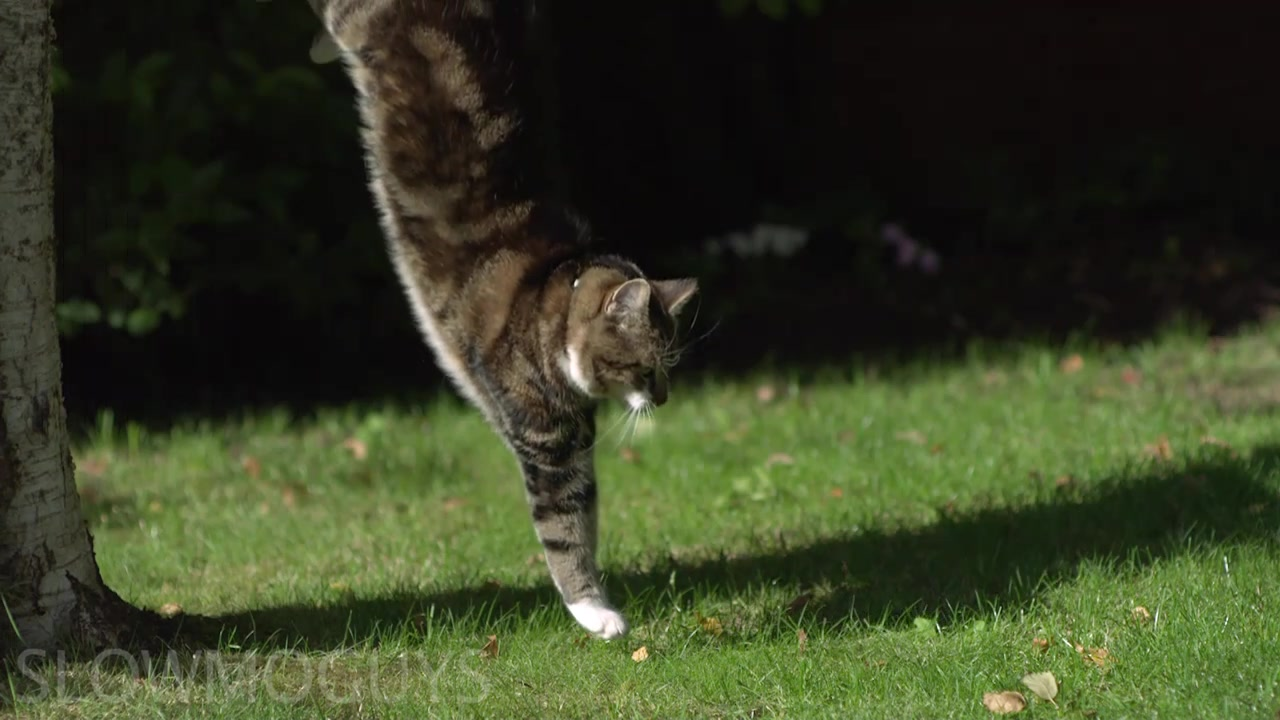cat: (308, 2, 700, 640)
